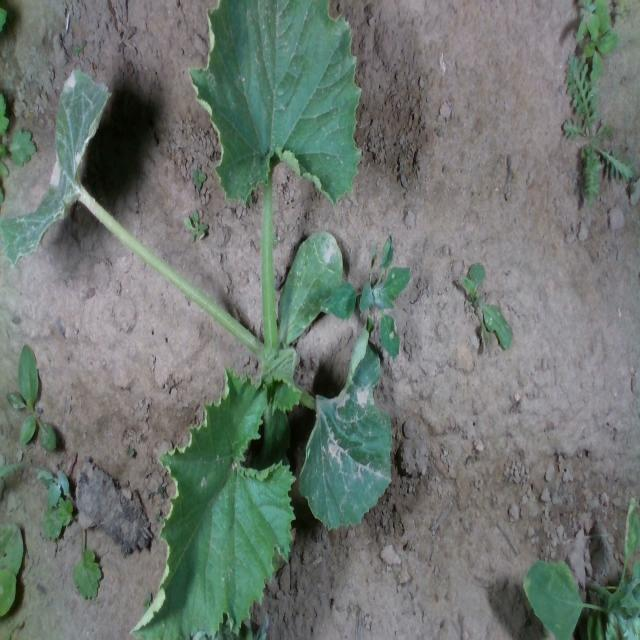weed: (457, 260, 513, 356)
